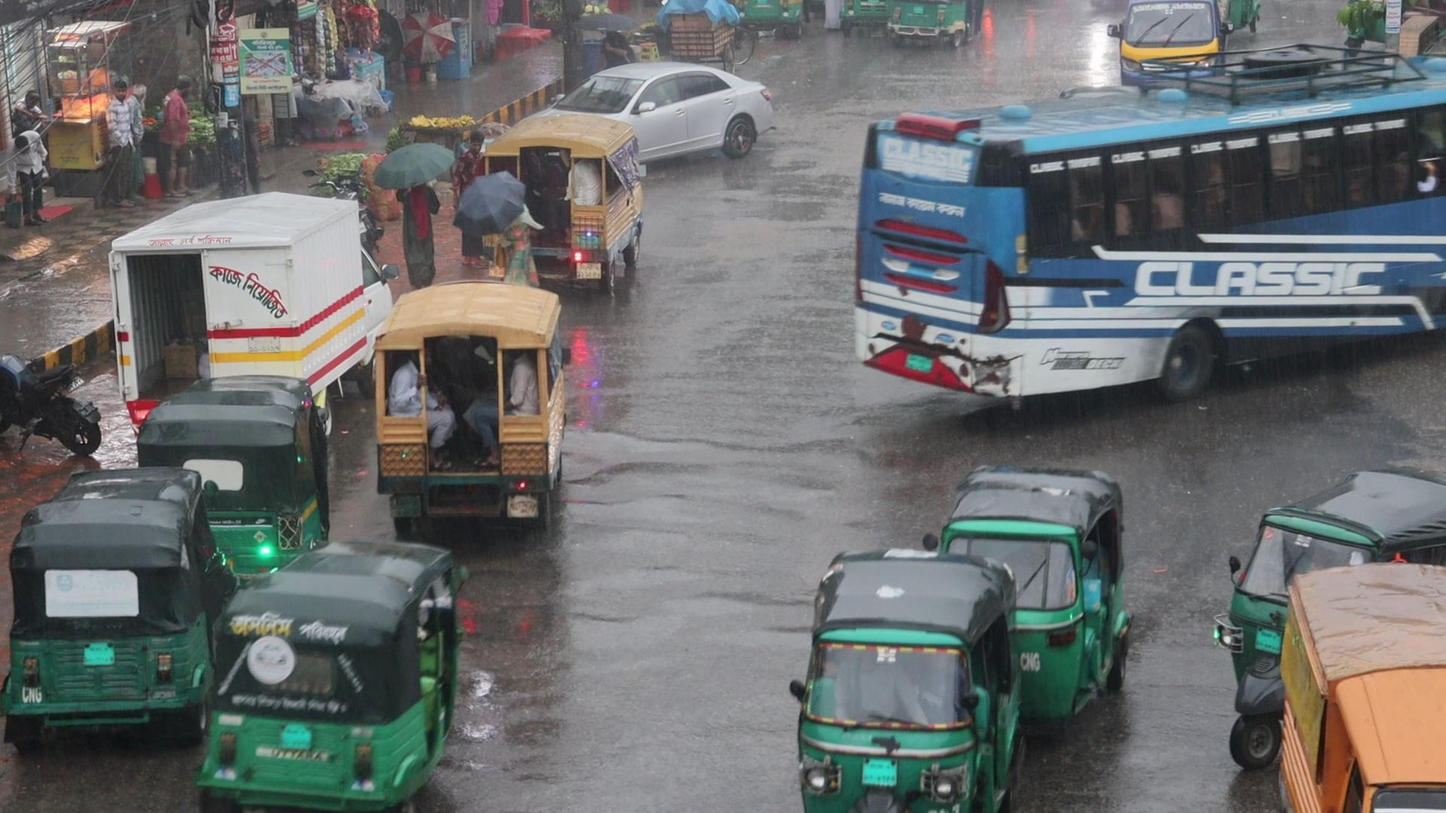Bus: (837, 40, 1446, 421)
Car: (545, 38, 784, 167)
Truck: (368, 279, 576, 532), (450, 104, 656, 296)
